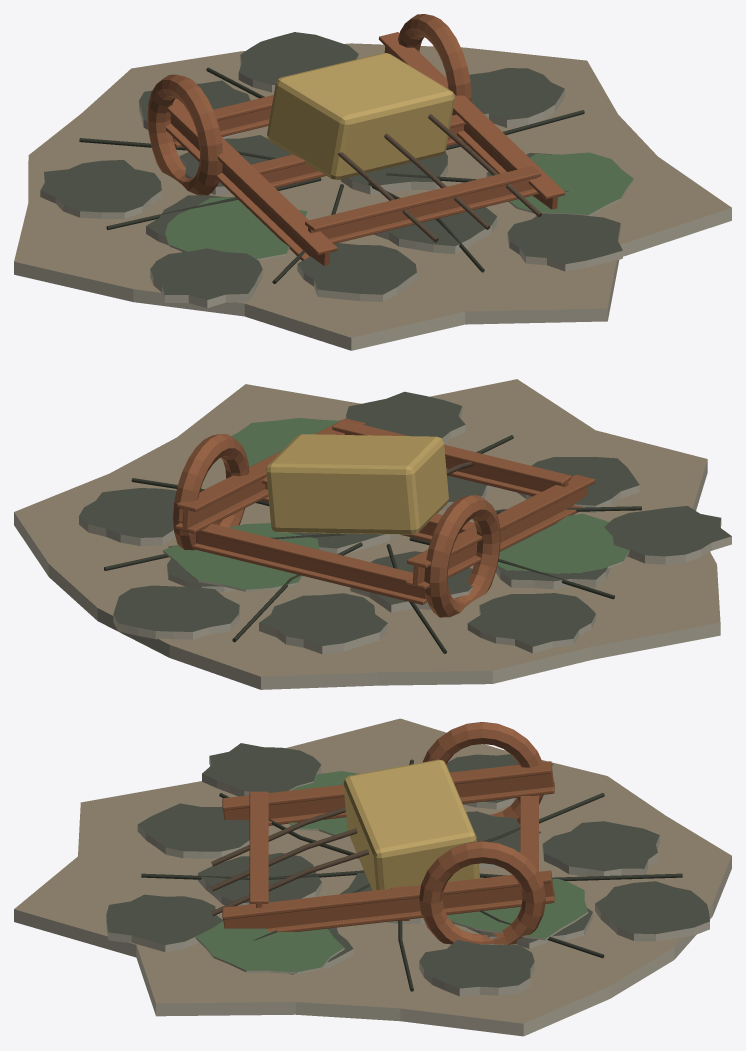
File: Lakebed_Stranded_Frame_Polluted.glb
3 views of the same model, one above another, from view 1: azimuth 30°, elevation 25°; view 2: azimuth 150°, elevation 25°; view 3: azimuth 270°, elevation 25° (orthographic). The views are drawn at different scales.
Parts seen in each view (by area): view 1: Structure; view 2: Structure; view 3: Structure.
Part boxes in pixels (x1,y1,x2,y2): Structure: (14,14,731,350); Structure: (14,379,731,689); Structure: (14,718,731,1036).
Bounding box in the file's own units: 6.14 × 1.08 × 6.11.
